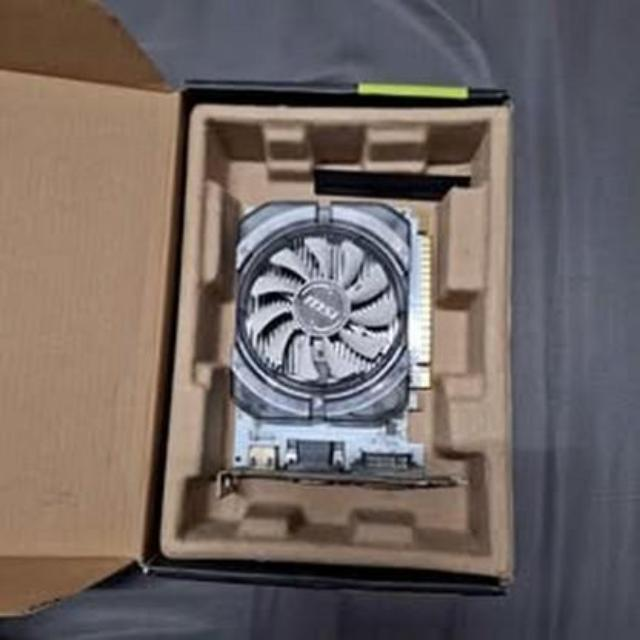GPU: (222, 185, 433, 487)
